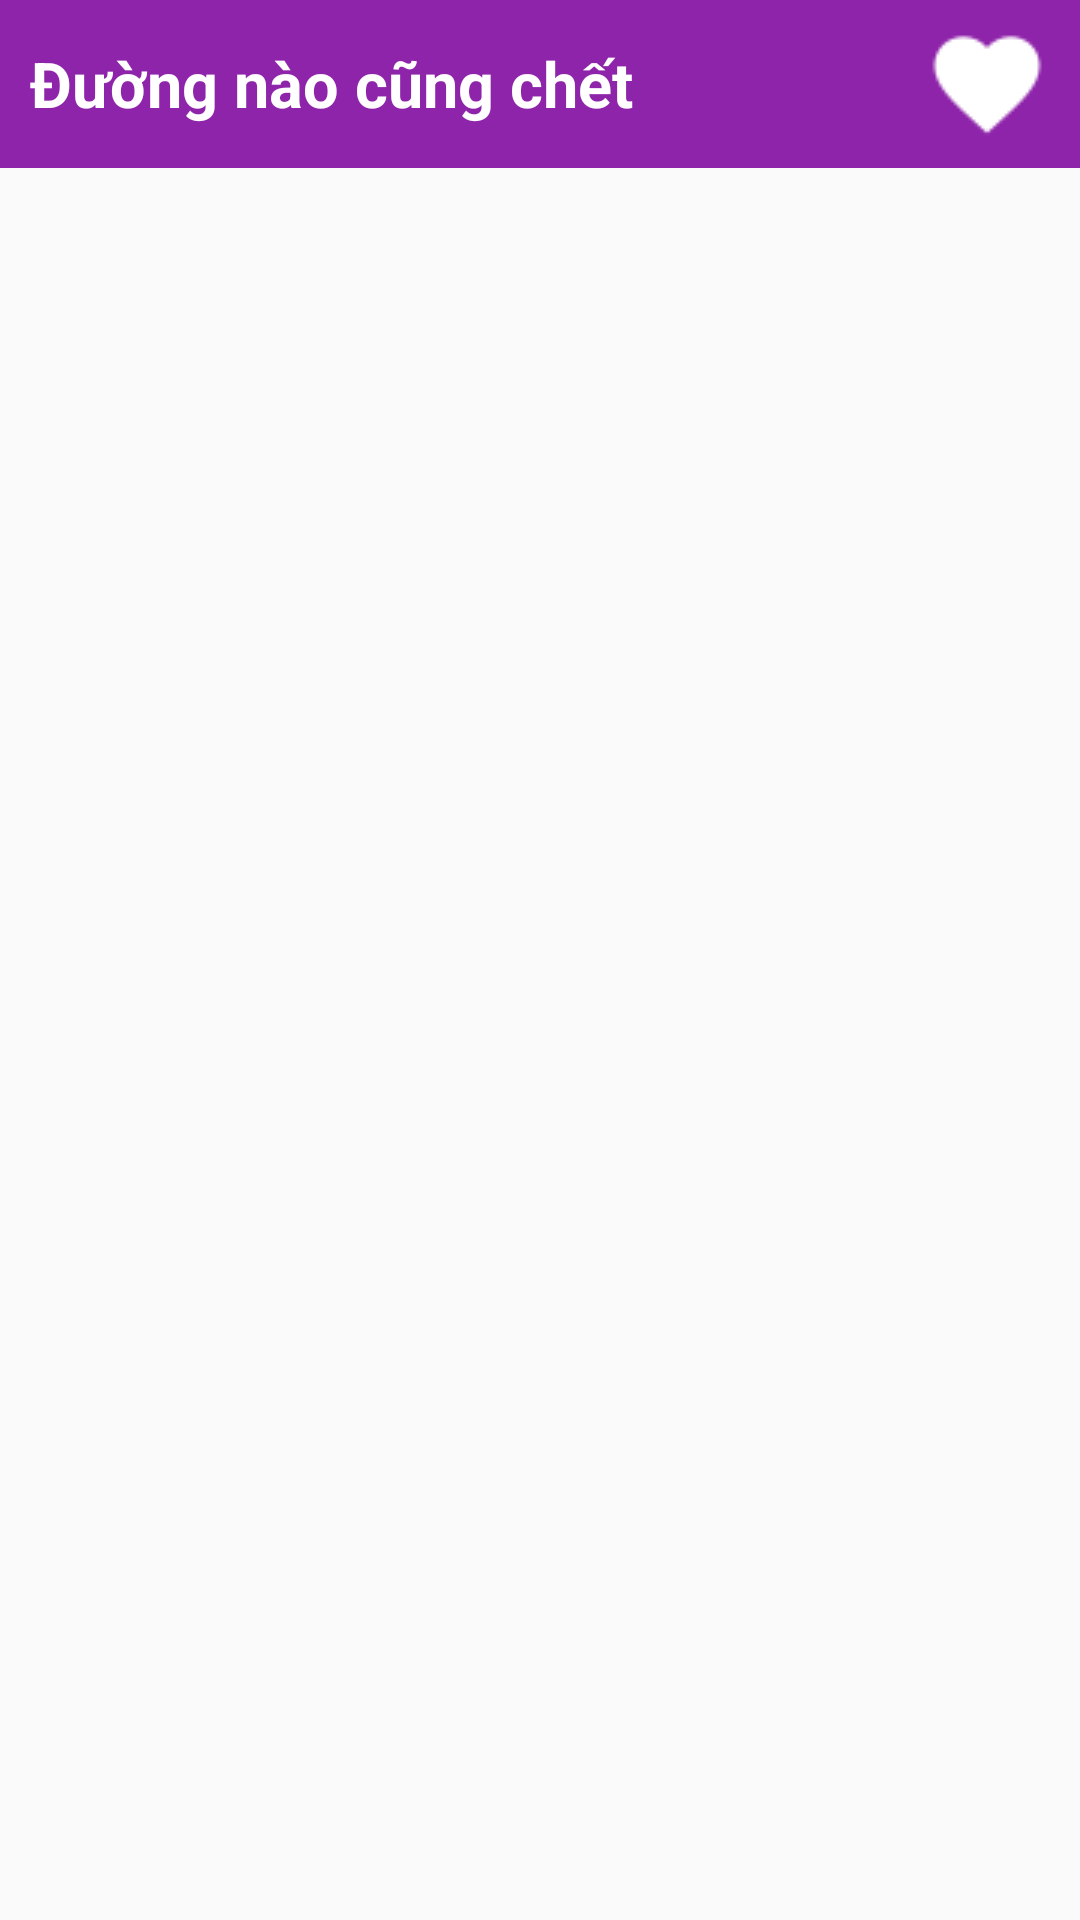

Where icons sit on this 1080*1920 app screen, as [x1, y1, x2, y2]:
heart: [932, 35, 1042, 133]
